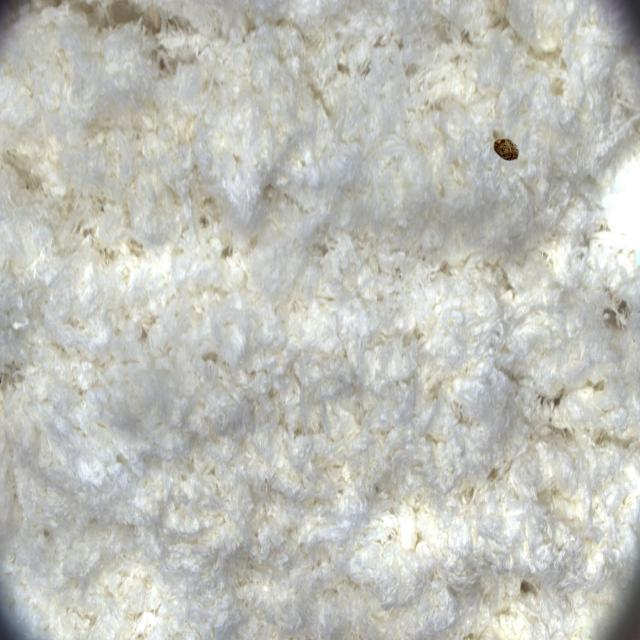dust: (486, 116, 534, 189)
